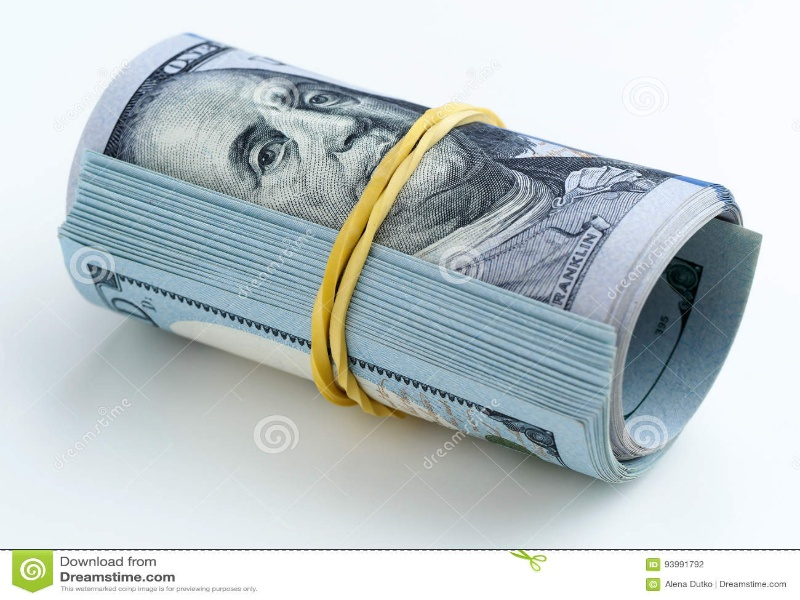cash: (56, 33, 765, 479)
